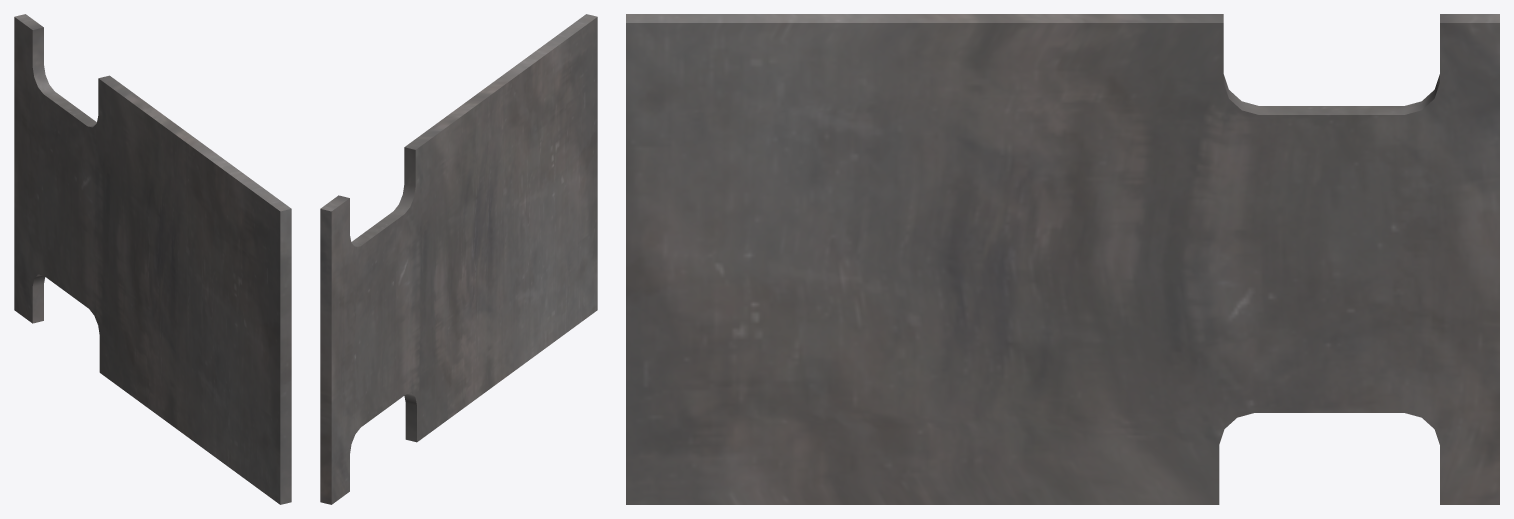
File: I_GOGage.fbx
The picture shows the model from 3 angles, left to right: view 1: azimuth 30°, elevation 25°; view 2: azimuth 150°, elevation 25°; view 3: azimuth 270°, elevation 25°; orthographic projection. The views are drawn at different scales.
Parts seen in each view (by area): view 1: I_GOGage; view 2: I_GOGage; view 3: I_GOGage.
Part boxes in pixels (x1,y1,x2,y2): I_GOGage: (14, 14, 291, 504); I_GOGage: (320, 14, 597, 504); I_GOGage: (626, 14, 1499, 504).
Bounding box in the file's own units: 0.0971 × 2.41 × 3.97.
